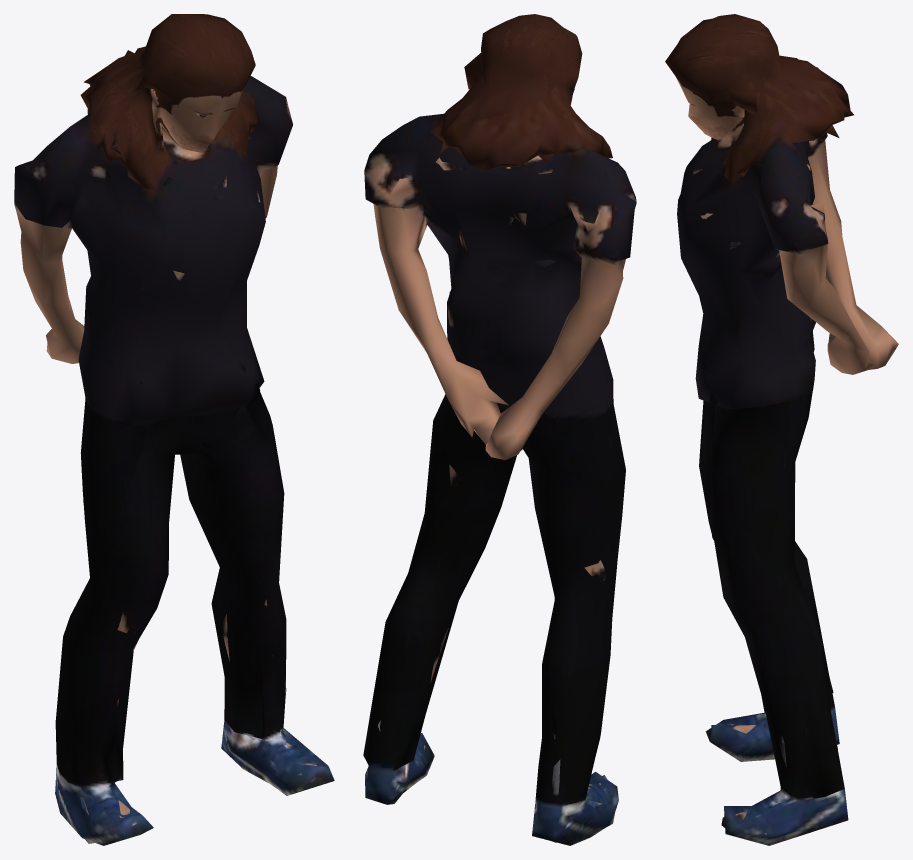
File: male-e-idle-near.glb
The picture shows the model from 3 angles, left to right: view 1: azimuth 30°, elevation 25°; view 2: azimuth 150°, elevation 25°; view 3: azimuth 270°, elevation 25°; orthographic projection. The views are drawn at different scales.
Visible parts, largest first — view 1: crowd; view 2: crowd; view 3: crowd.
Boxes of the visible parts, left/top/right/bottom form: crowd: left=14, top=14, right=334, bottom=845; crowd: left=363, top=14, right=636, bottom=845; crowd: left=665, top=14, right=898, bottom=845.
Bounding box in the file's own units: 0.6585 × 1.82 × 0.5004.
1 material, 1 textured.
